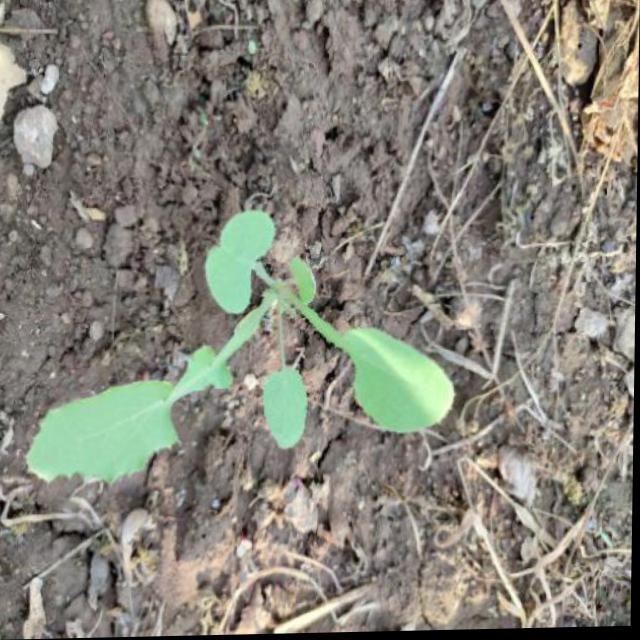weed: (27, 209, 474, 497)
